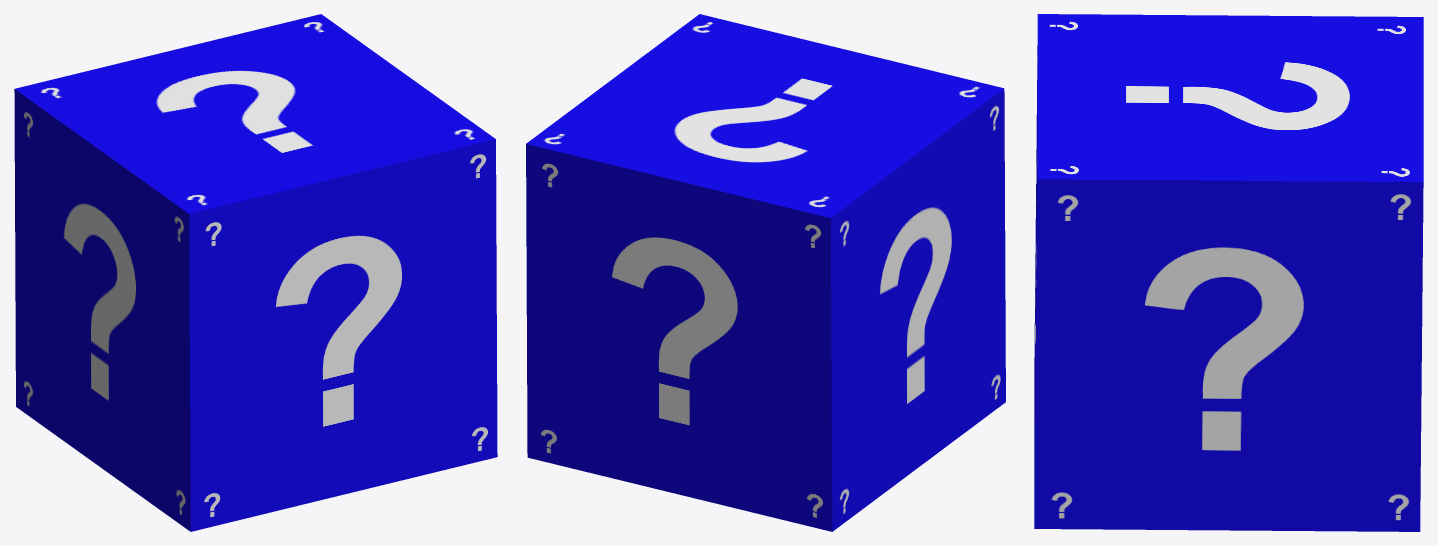
The model's file is block_mystery_2.FBX.
3 views of the same model, side by side, from view 1: azimuth 30°, elevation 25°; view 2: azimuth 150°, elevation 25°; view 3: azimuth 270°, elevation 25° (orthographic). The views are drawn at different scales.
Parts seen in each view (by area): view 1: Box001; view 2: Box001; view 3: Box001.
Part boxes in pixels (box(x1,y1,x2,y2)): Box001: box(14, 14, 497, 531); Box001: box(526, 14, 1005, 531); Box001: box(1034, 14, 1423, 531).
Bounding box in the file's own units: 101 × 101 × 101.
1 material, 1 textured.
